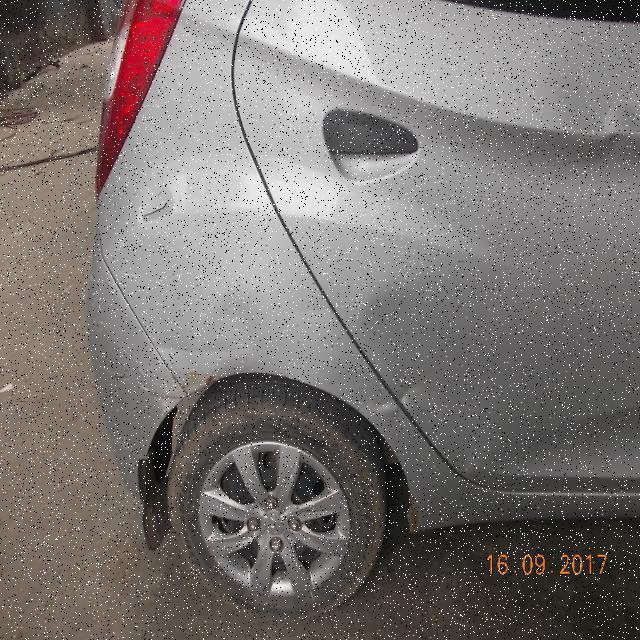doorouter-dent: (300, 6, 639, 472)
quaterpanel-dent: (136, 33, 298, 481)
rear-bumper-dent: (68, 220, 189, 573)
